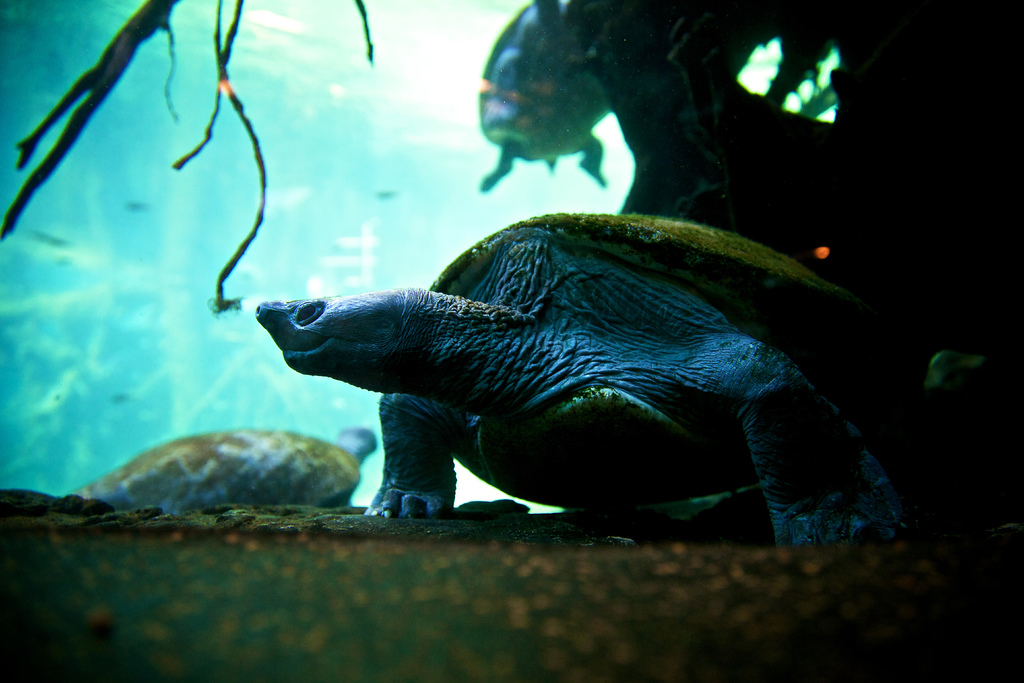Sea turtles: (247, 199, 920, 556), (70, 419, 377, 527)
